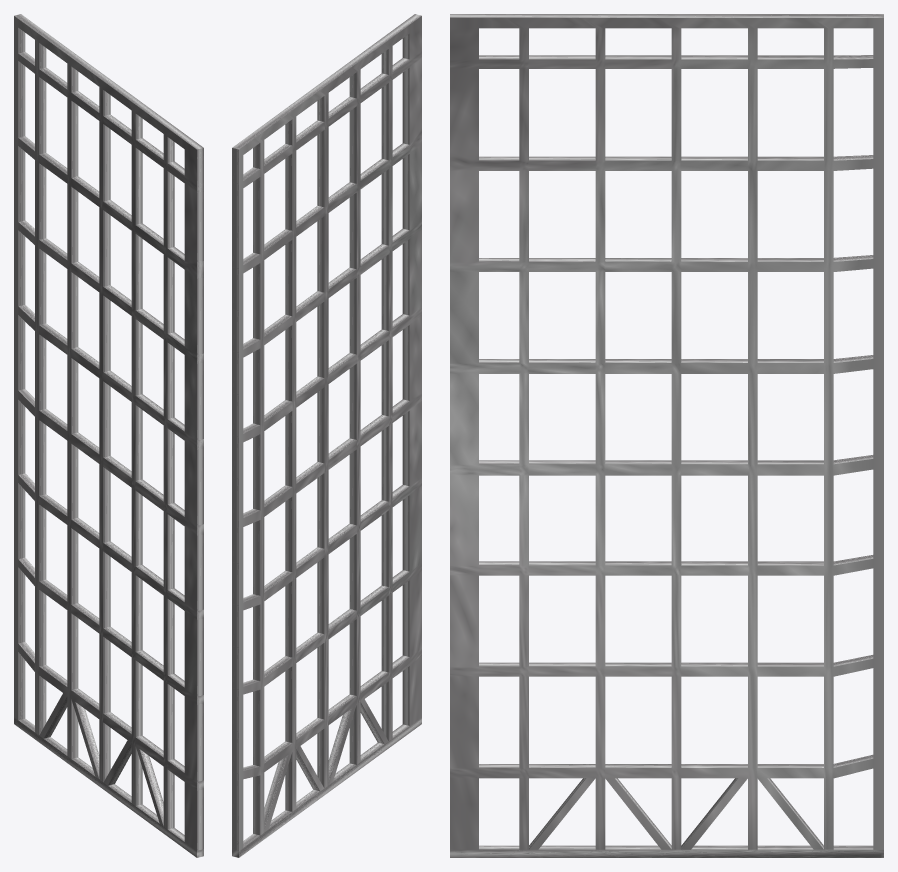
The picture shows the model from 3 angles, left to right: view 1: azimuth 30°, elevation 25°; view 2: azimuth 150°, elevation 25°; view 3: azimuth 270°, elevation 25°; orthographic projection. The views are drawn at different scales.
Visible parts, largest first — view 1: Box001; view 2: Box001; view 3: Box001.
Boxes of the visible parts, left/top/right/bottom form: Box001: left=14, top=14, right=203, bottom=857; Box001: left=232, top=14, right=421, bottom=857; Box001: left=450, top=14, right=883, bottom=857.
Size of the model in its own units: 1.5 by 144 by 67.47.
1 material, 1 textured.
